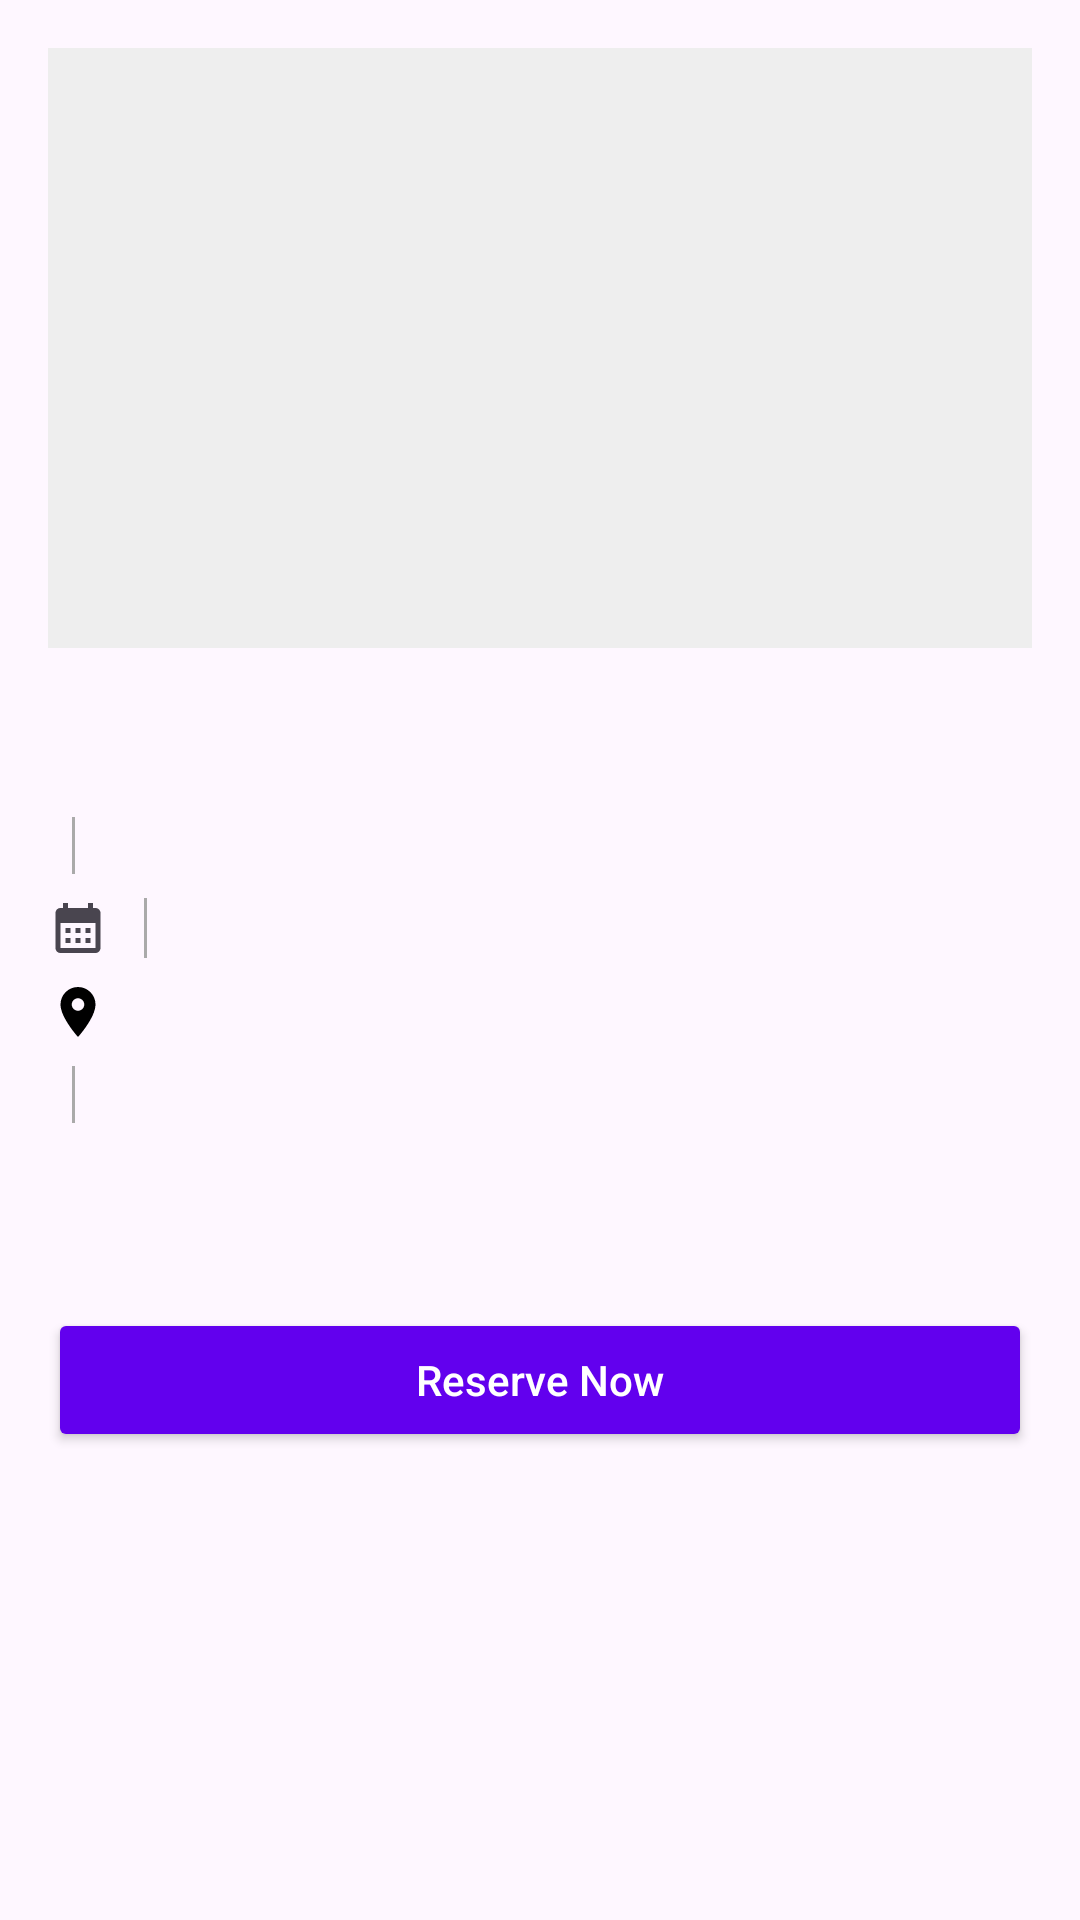

Locate icon controls on the screen. Image size 1080w x 1920h, boxes as (x1, y1, x2, y2).
calendar: (55, 903, 101, 953)
location: (60, 987, 96, 1037)
